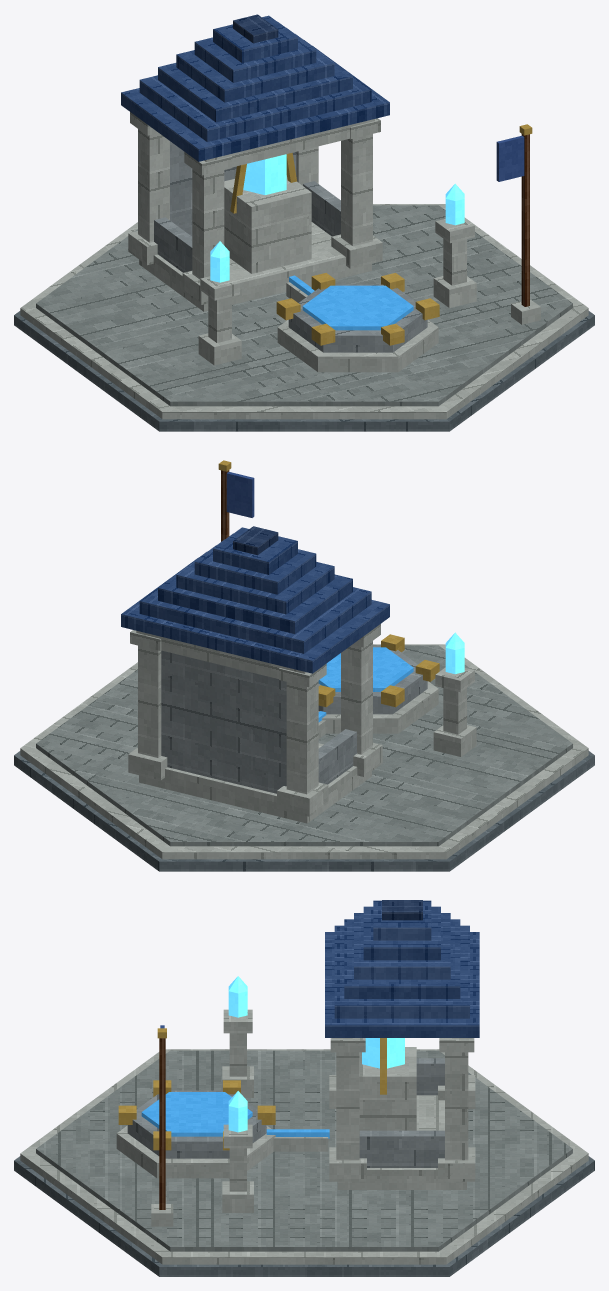
Rendered from arcane_shrine_hex_v1.glb.
3 renders of one model, top to bottom at view 1: azimuth 30°, elevation 25°; view 2: azimuth 150°, elevation 25°; view 3: azimuth 270°, elevation 25°, orthographic.
Parts seen in each view (by area): view 1: Human_Arcane_Shrine_Hex_V1_Foundation, Human_Arcane_Shrine_Hex_V1_Roofs, Human_Arcane_Shrine_Hex_V1_Focus, Human_Arcane_Shrine_Hex_V1_Structure, Human_Arcane_Shrine_Hex_V1_Hall, Human_Arcane_Shrine_Hex_V1_Details, Human_Arcane_Shrine_Hex_V1_Faction; view 2: Human_Arcane_Shrine_Hex_V1_Foundation, Human_Arcane_Shrine_Hex_V1_Roofs, Human_Arcane_Shrine_Hex_V1_Hall, Human_Arcane_Shrine_Hex_V1_Structure, Human_Arcane_Shrine_Hex_V1_Focus, Human_Arcane_Shrine_Hex_V1_Faction, Human_Arcane_Shrine_Hex_V1_Details; view 3: Human_Arcane_Shrine_Hex_V1_Foundation, Human_Arcane_Shrine_Hex_V1_Roofs, Human_Arcane_Shrine_Hex_V1_Focus, Human_Arcane_Shrine_Hex_V1_Structure, Human_Arcane_Shrine_Hex_V1_Hall, Human_Arcane_Shrine_Hex_V1_Details, Human_Arcane_Shrine_Hex_V1_Courtyard.
Part boxes in pixels (box(x1,y1,x2,y2)): Human_Arcane_Shrine_Hex_V1_Foundation: box(14, 204, 594, 431); Human_Arcane_Shrine_Hex_V1_Roofs: box(121, 14, 389, 161); Human_Arcane_Shrine_Hex_V1_Focus: box(210, 152, 464, 372); Human_Arcane_Shrine_Hex_V1_Structure: box(128, 112, 476, 365); Human_Arcane_Shrine_Hex_V1_Hall: box(139, 141, 371, 311); Human_Arcane_Shrine_Hex_V1_Details: box(511, 124, 540, 324); Human_Arcane_Shrine_Hex_V1_Faction: box(496, 135, 524, 181); Human_Arcane_Shrine_Hex_V1_Foundation: box(14, 644, 594, 871); Human_Arcane_Shrine_Hex_V1_Roofs: box(121, 526, 389, 673); Human_Arcane_Shrine_Hex_V1_Hall: box(139, 650, 371, 823); Human_Arcane_Shrine_Hex_V1_Structure: box(128, 624, 476, 816); Human_Arcane_Shrine_Hex_V1_Focus: box(318, 632, 464, 733); Human_Arcane_Shrine_Hex_V1_Faction: box(226, 472, 254, 517); Human_Arcane_Shrine_Hex_V1_Details: box(218, 460, 231, 541); Human_Arcane_Shrine_Hex_V1_Foundation: box(14, 1049, 594, 1276); Human_Arcane_Shrine_Hex_V1_Roofs: box(325, 900, 479, 1037); Human_Arcane_Shrine_Hex_V1_Focus: box(116, 976, 416, 1178); Human_Arcane_Shrine_Hex_V1_Structure: box(222, 1009, 475, 1212); Human_Arcane_Shrine_Hex_V1_Hall: box(337, 1058, 466, 1189); Human_Arcane_Shrine_Hex_V1_Details: box(151, 1028, 173, 1226); Human_Arcane_Shrine_Hex_V1_Courtyard: box(273, 1137, 328, 1151).
Size of the model in its own units: 1.59 by 0.924 by 1.84.
1 material, 1 textured.
